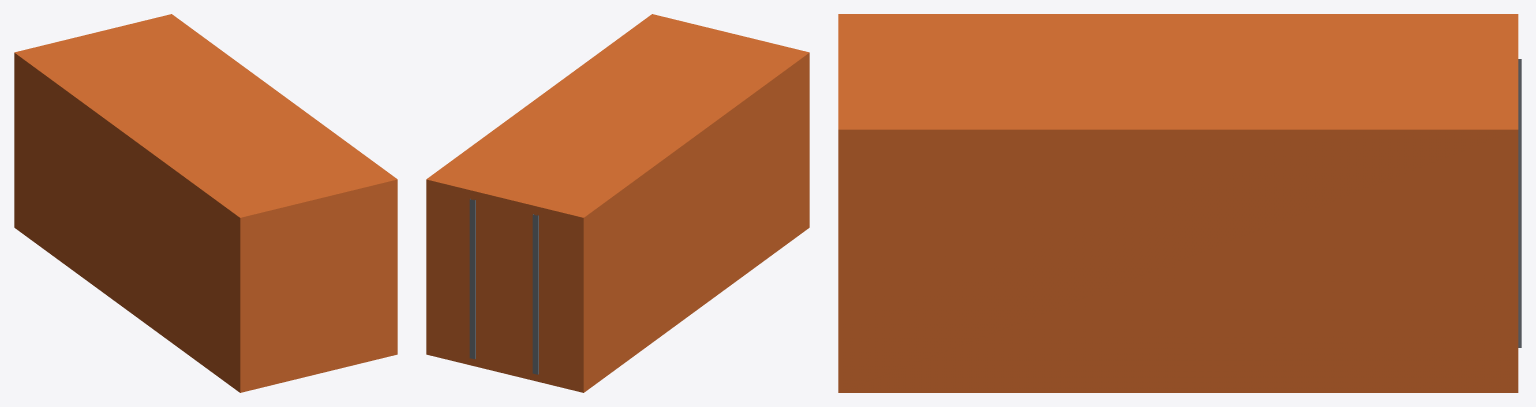
3 renders of one model, left to right at view 1: azimuth 30°, elevation 25°; view 2: azimuth 150°, elevation 25°; view 3: azimuth 270°, elevation 25°, orthographic. The views are drawn at different scales.
Visible parts, largest first — view 1: 406; view 2: 406; view 3: 406.
Boxes of the visible parts, x1,y1,x2,y2 form: 406: (14, 14, 397, 392); 406: (426, 14, 809, 392); 406: (838, 14, 1521, 392).
Bounding box in the file's own units: 2.44 × 2.59 × 6.09.
